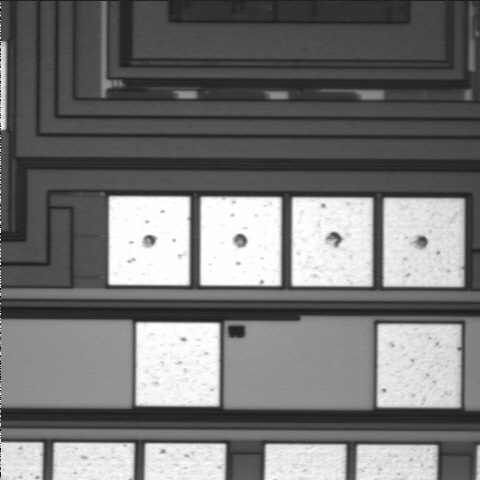pad: (109, 196, 190, 285), (200, 197, 281, 286), (292, 197, 373, 286), (383, 198, 464, 287), (136, 322, 220, 406), (377, 324, 461, 407)
